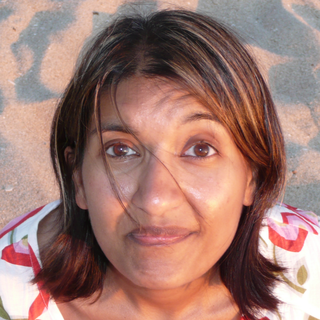eye: (94, 134, 144, 164), (178, 135, 228, 165)
